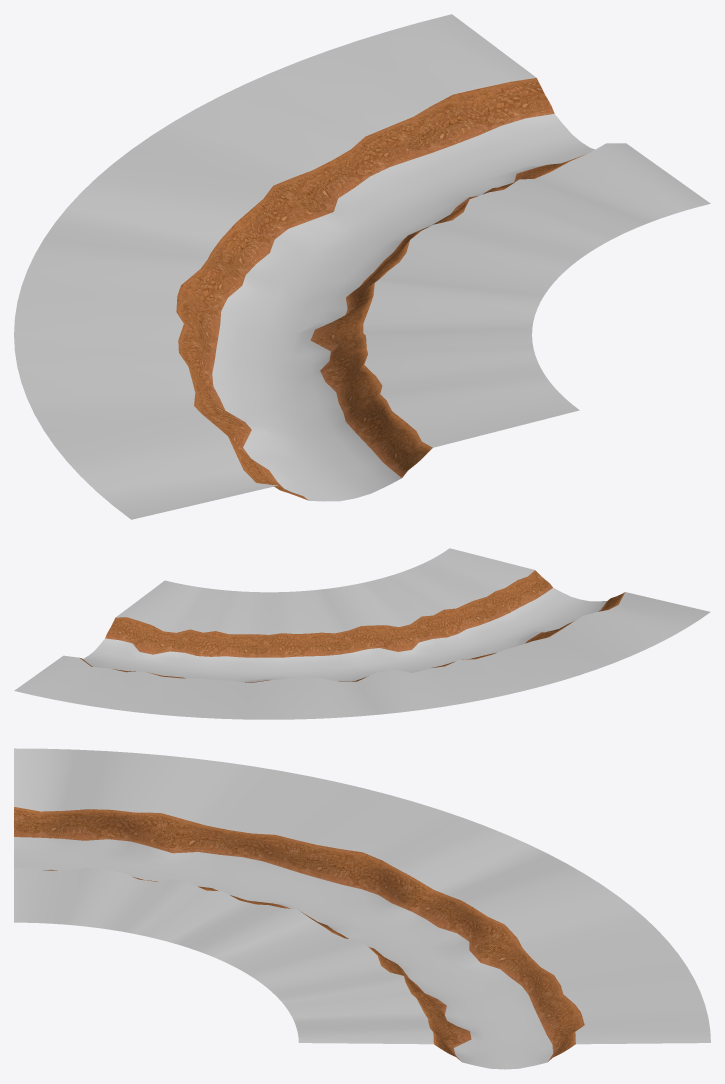
File: River_Bed_Bend_B.fbx
3 views of the same model, one above another, from view 1: azimuth 30°, elevation 25°; view 2: azimuth 150°, elevation 25°; view 3: azimuth 270°, elevation 25° (orthographic). The views are drawn at different scales.
Visible parts, largest first — view 1: RiverBed_Bend_B; view 2: RiverBed_Bend_B; view 3: RiverBed_Bend_B.
Part boxes in pixels (x1,y1,x2,y2): RiverBed_Bend_B: [14, 14, 710, 519]; RiverBed_Bend_B: [14, 548, 710, 719]; RiverBed_Bend_B: [14, 748, 710, 1069].
Size of the model in its own units: 2005 by 92.86 by 2005.
